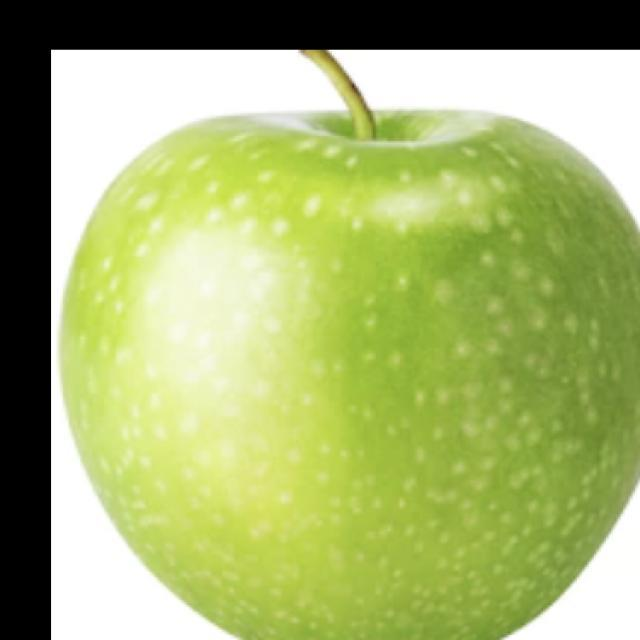Fresh Apple: (83, 118, 640, 640)
